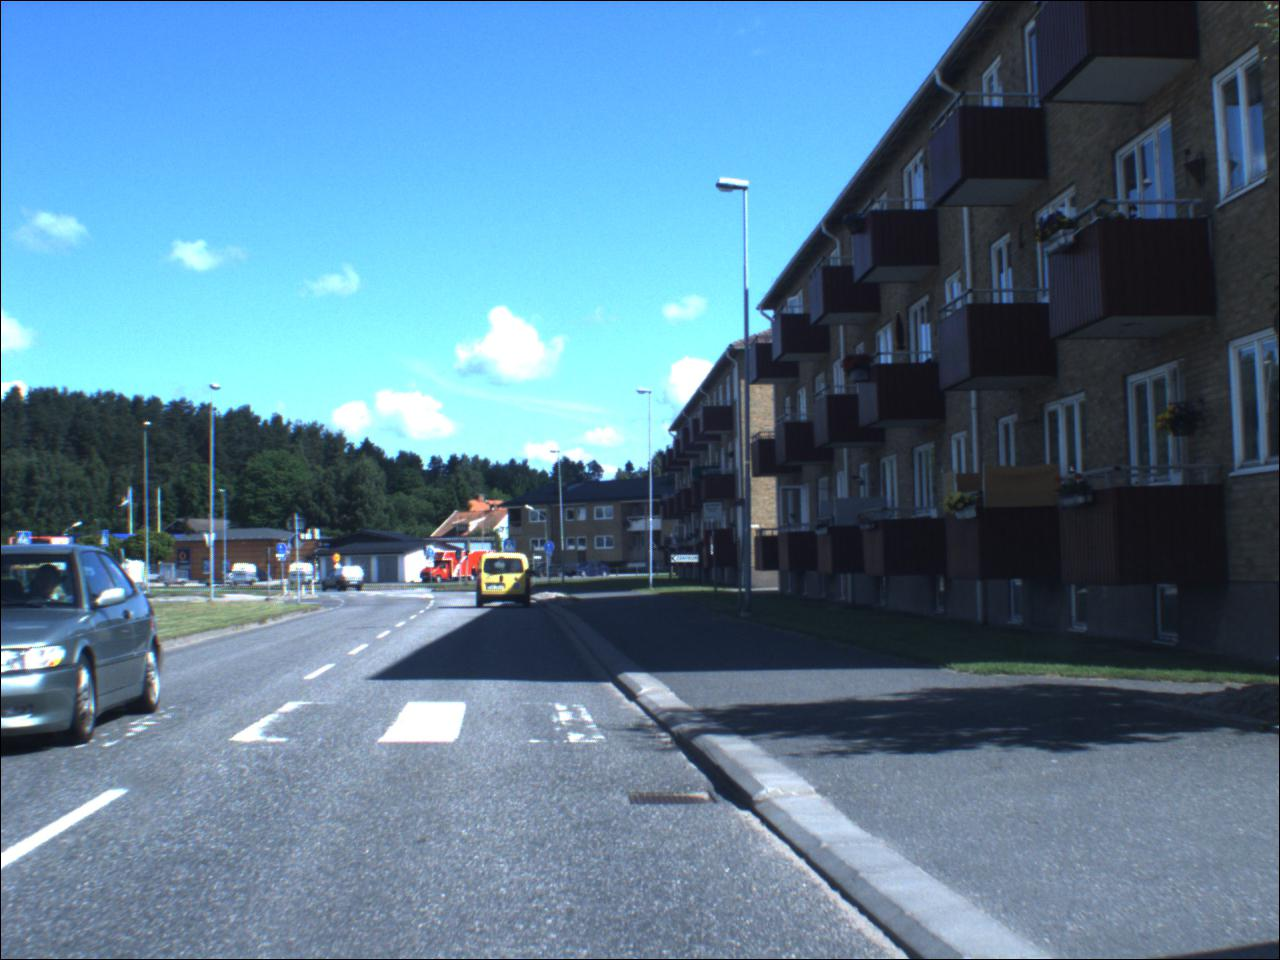50_SIGN: (334, 553, 346, 565)
PEDESTRIAN_CROSSING: (19, 533, 34, 547), (506, 542, 519, 554), (102, 532, 112, 547)
